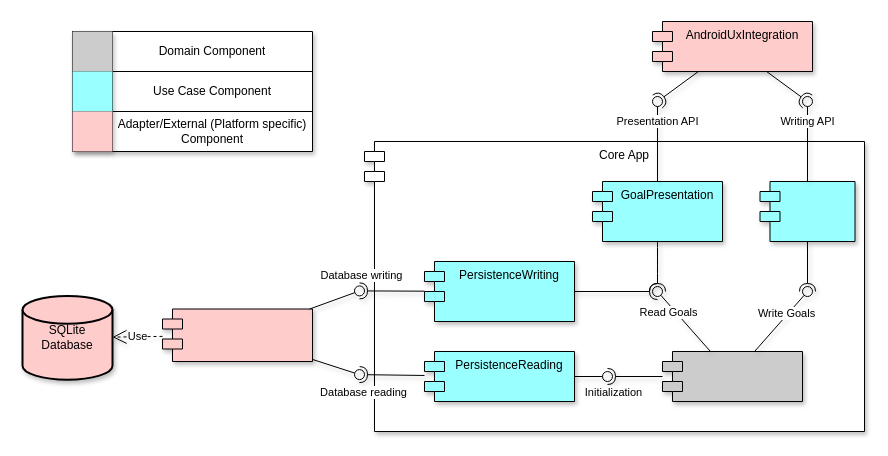
Some shapes in this 888 by 456 pixel diagram are drawn without their labels. The centre of each missing label's shape, as x and y in pixels:
GoalManagement: point (733, 377)
GoalWriting: point (808, 212)
SQLiteIntegration: point (238, 336)
